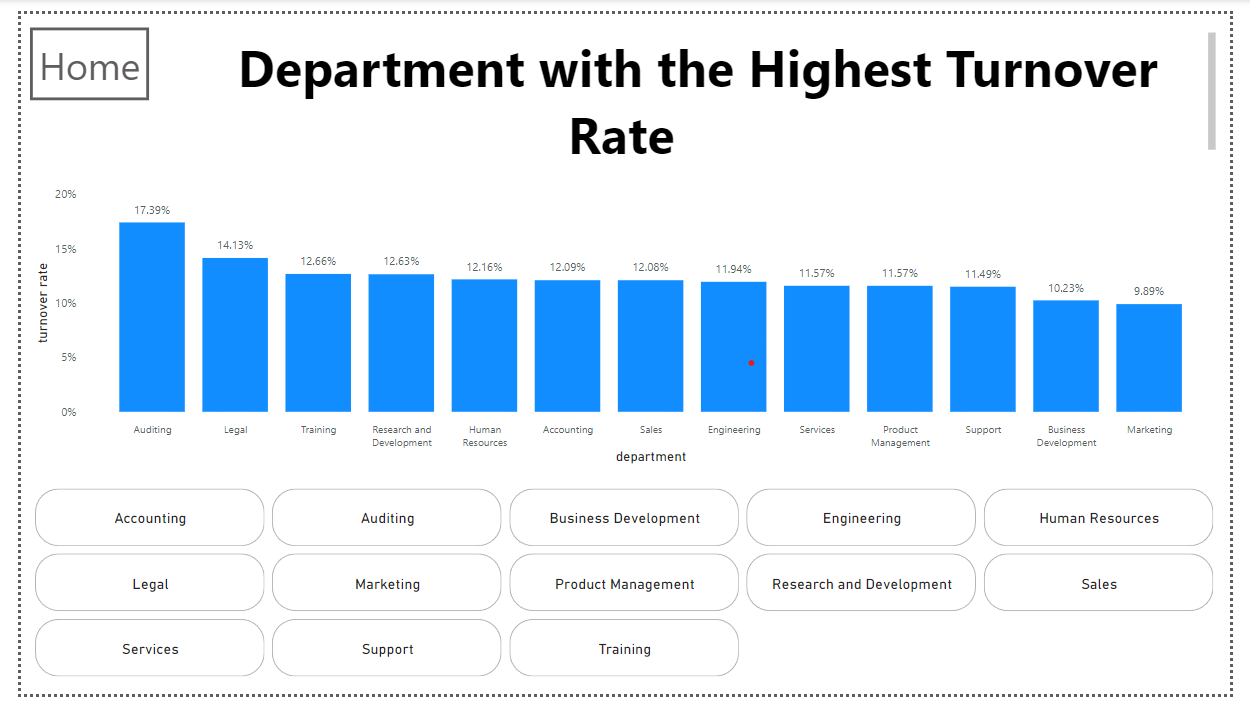

What the dashboard file says about the page in this screenshot:
{"tool":"powerbi","page":{"name":"Department with the Highest Turnover Rate","canvas":[1280,720],"ordinal":8},"visuals":[{"type":"advancedSlicerVisual","fields":{"Values":["hr.department"]},"box":[9.7,497.1,1259.8,210.5],"z":0},{"type":"textbox","box":[9.7,14.6,1259.8,142.5],"z":1000},{"type":"columnChart","fields":{"Category":["hr.department"],"Y":["Metrics.turnover rate"]},"box":[9.7,176.5,1259.8,304.4],"z":1001},{"type":"actionButton","box":[9,14,126,77],"z":1002}]}

Visuals, with their boxes in screenshot pixels (x1, y1, x2, y2), scaled from the page's 1280x720 canvas onto the 1250x715 screenshot:
advancedSlicerVisual - hr.department: [x1=9, y1=494, x2=1240, y2=703]
textbox: [x1=9, y1=14, x2=1240, y2=156]
columnChart - hr.department x Metrics.turnover rate: [x1=9, y1=175, x2=1240, y2=478]
actionButton: [x1=9, y1=14, x2=132, y2=90]
